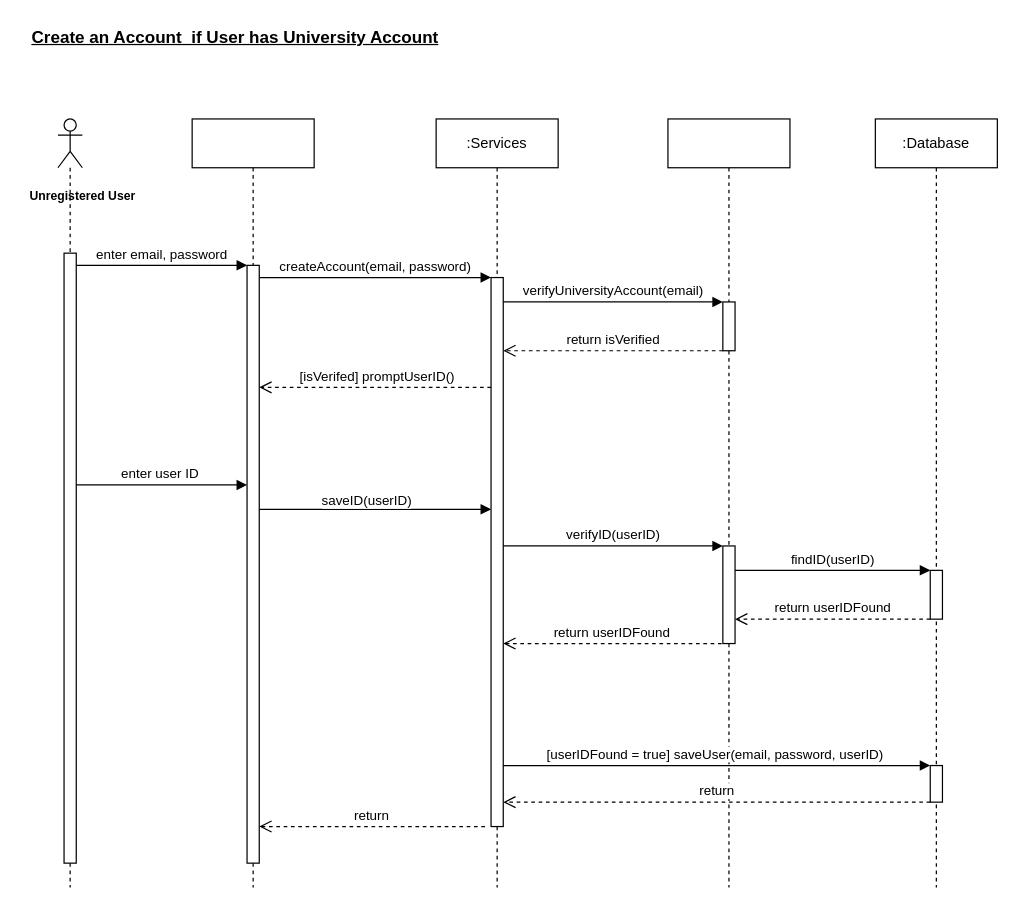
Image size: 1019x909. Some labels were removed from this diagram. Each missing label, with the box of its shape:
:Verification: (667, 118, 790, 888)
interface:JavaFX: (191, 118, 314, 888)
